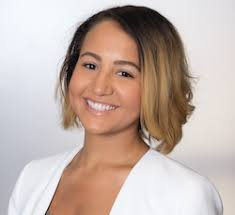person: (55, 4, 193, 144)
